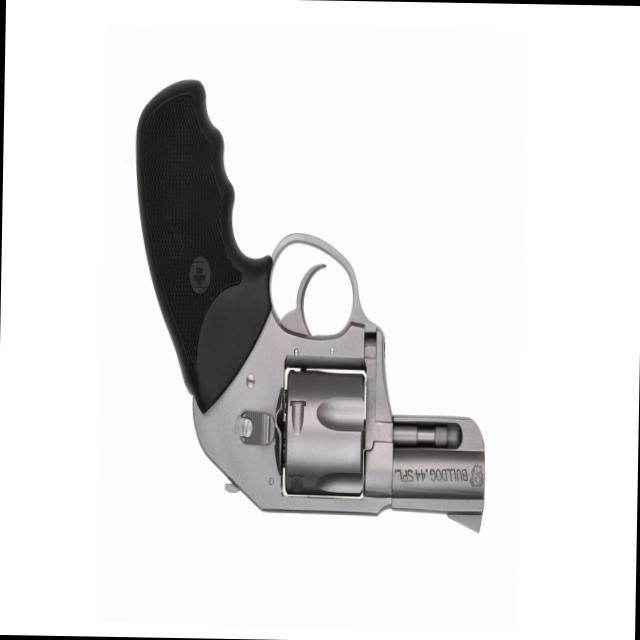Gun: (114, 70, 500, 523)
